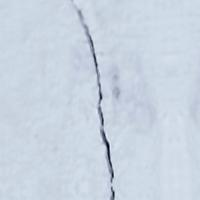crack: (62, 4, 140, 200)
